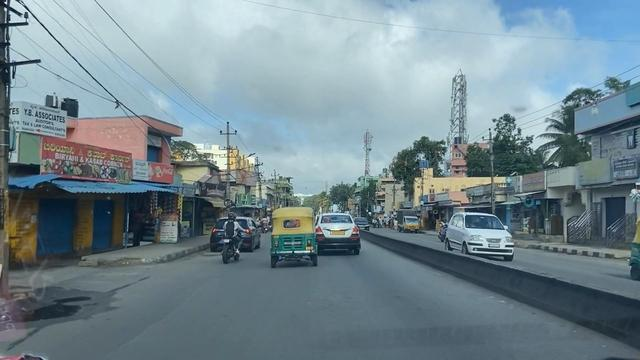LMV: (267, 204, 316, 262), (314, 213, 368, 257), (221, 211, 241, 263)
